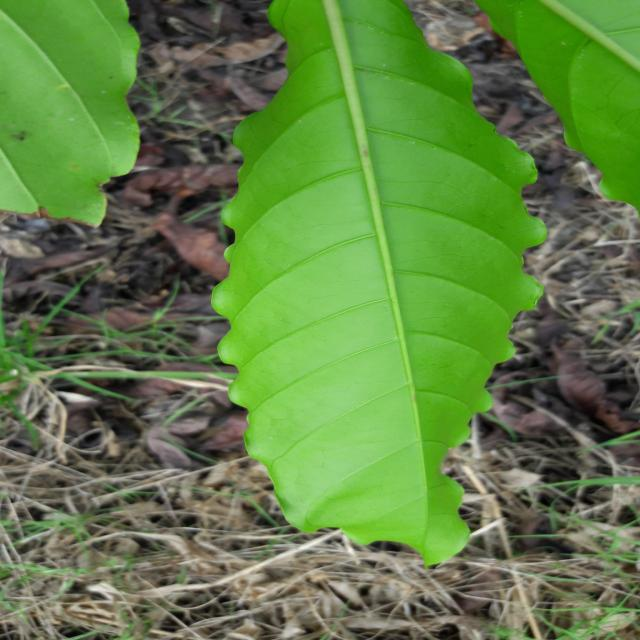Sanas: (209, 0, 547, 568)
